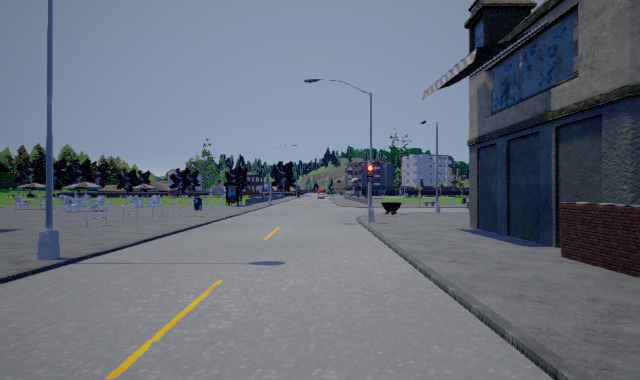traffic_light: (366, 163, 373, 182)
